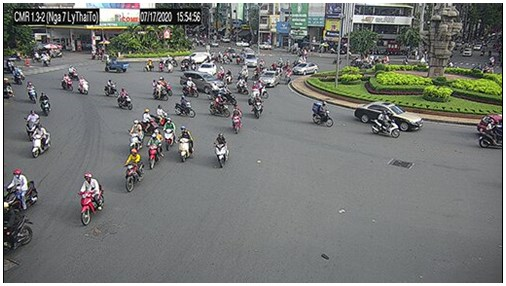xe_ba_gac: (104, 58, 129, 74)
xe_hoi: (354, 103, 423, 133), (181, 70, 228, 95), (259, 70, 278, 88), (293, 62, 318, 75), (240, 52, 256, 68), (183, 53, 211, 62), (198, 63, 214, 75)
xe_may: (6, 170, 37, 210), (80, 173, 102, 226), (125, 149, 145, 194), (371, 110, 399, 139), (477, 120, 501, 150), (33, 123, 52, 160), (139, 108, 162, 138), (151, 106, 175, 133), (311, 101, 333, 128), (178, 126, 193, 164), (214, 132, 229, 169), (128, 119, 143, 155), (146, 132, 160, 169), (209, 94, 229, 119), (26, 110, 41, 140), (176, 96, 196, 118), (229, 105, 242, 135), (181, 76, 198, 97), (118, 87, 134, 109), (163, 118, 173, 152), (153, 79, 168, 101), (40, 91, 52, 116), (252, 93, 263, 118), (104, 79, 118, 98), (26, 81, 37, 104), (235, 78, 248, 97), (4, 78, 15, 100), (12, 64, 24, 84), (78, 74, 89, 95), (66, 65, 80, 81), (61, 73, 73, 91), (144, 58, 155, 70), (225, 69, 232, 84), (166, 58, 173, 72), (159, 57, 165, 71), (217, 64, 223, 78)
